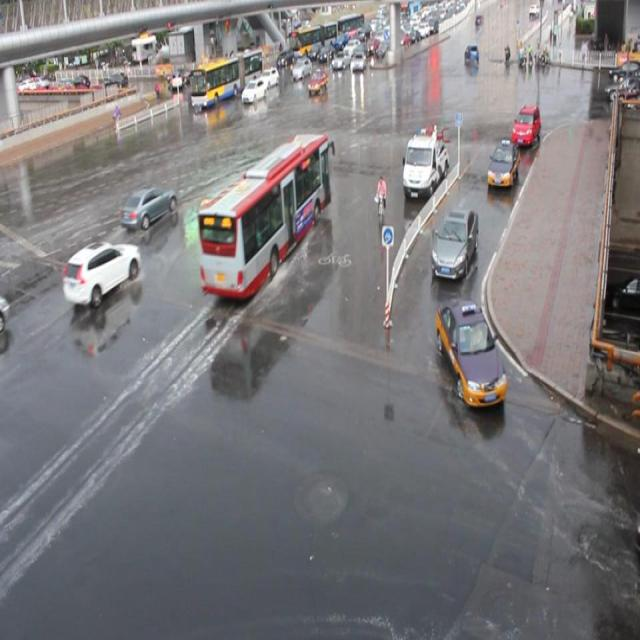bus: (402, 128, 448, 198)
car: (434, 295, 506, 405), (63, 239, 141, 304), (429, 205, 478, 280), (120, 185, 178, 229), (485, 139, 519, 187), (510, 105, 540, 145), (200, 73, 226, 101), (241, 78, 267, 105), (307, 70, 328, 94)
van: (197, 131, 330, 298), (189, 47, 264, 109)
